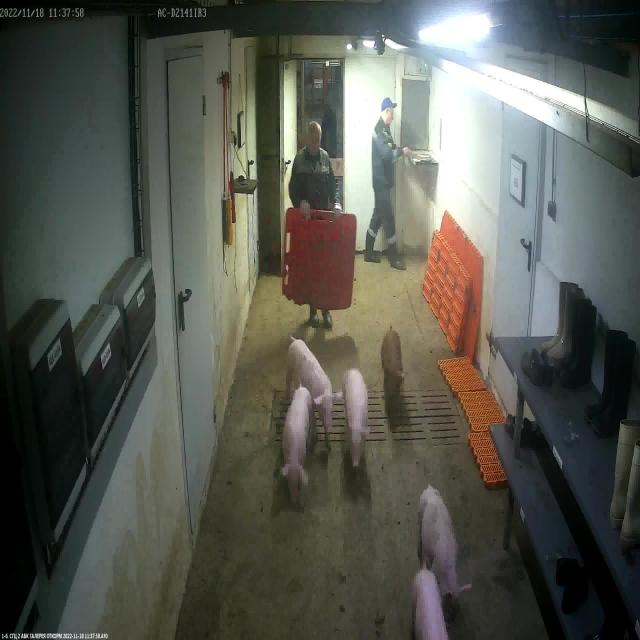pig: (286, 339, 343, 447), (420, 484, 471, 597), (282, 387, 312, 505), (410, 569, 448, 640), (342, 369, 368, 470), (380, 331, 403, 404)
